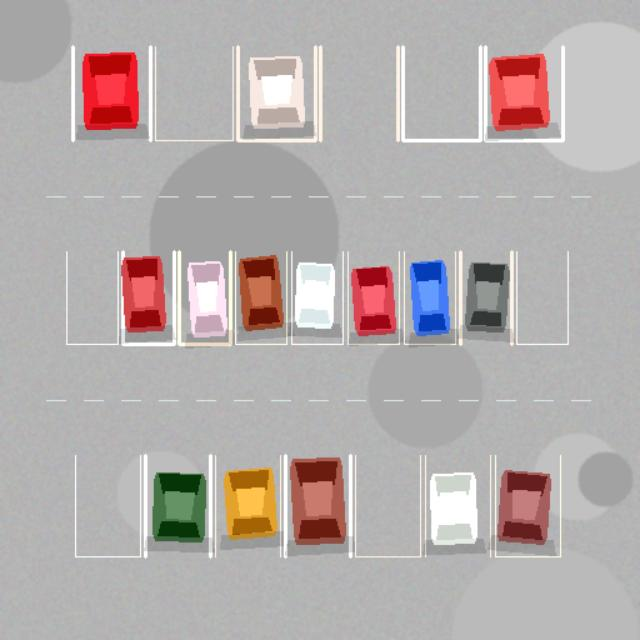space-empty: (320, 46, 398, 140), (402, 46, 480, 140), (155, 46, 232, 140), (75, 455, 140, 556), (355, 455, 420, 556), (66, 251, 118, 344), (516, 251, 568, 344)
space-occupied: (72, 46, 150, 140), (238, 46, 315, 140), (485, 46, 562, 140), (145, 455, 210, 556), (215, 455, 280, 556), (285, 455, 350, 556), (425, 455, 490, 556), (495, 455, 560, 556), (122, 251, 174, 344), (179, 251, 230, 344), (235, 251, 286, 344), (291, 251, 342, 344), (348, 251, 399, 344), (404, 251, 455, 344), (460, 251, 511, 344)
